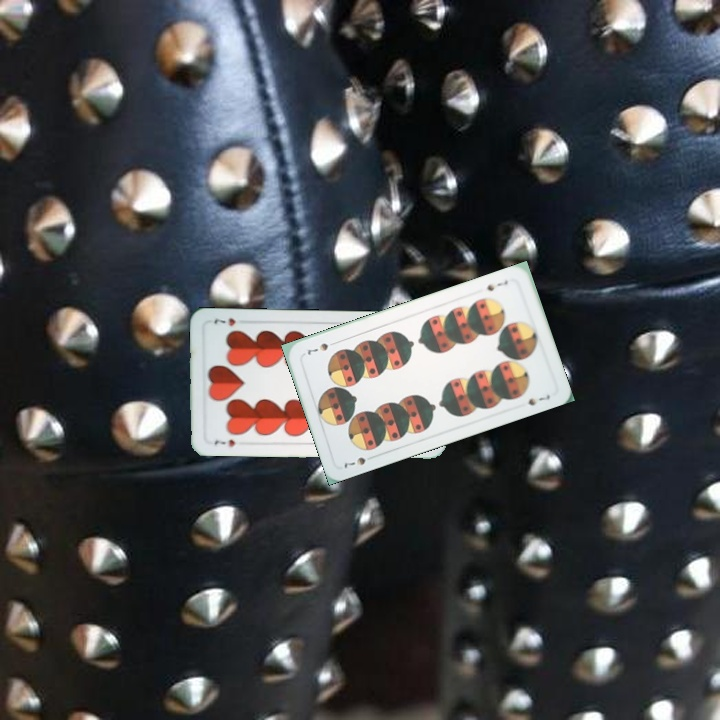H7: (210, 435, 241, 449)
S7: (340, 453, 369, 471), (483, 276, 510, 294)
